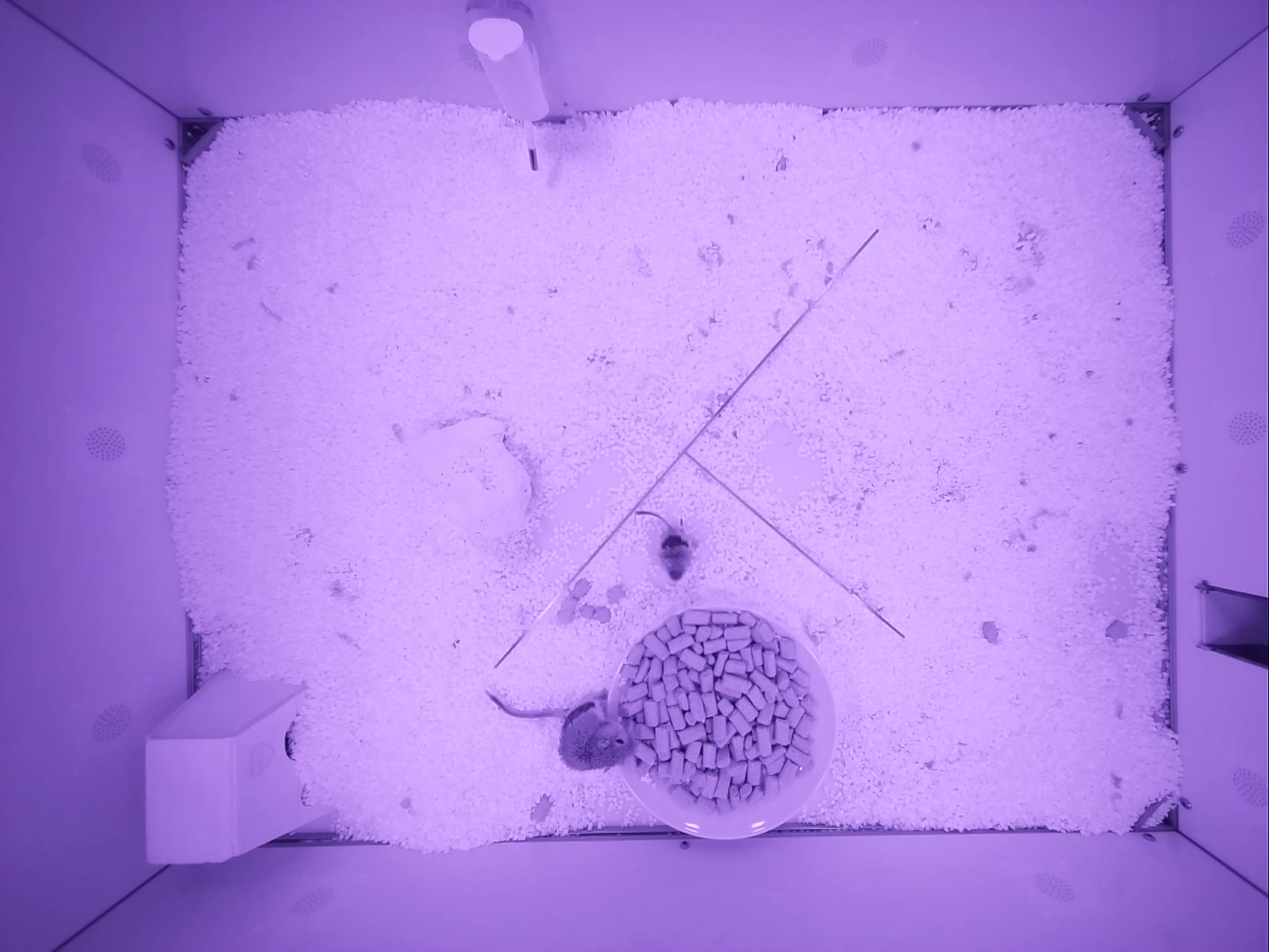adult_back: (489, 691, 631, 769), (635, 510, 690, 580)
